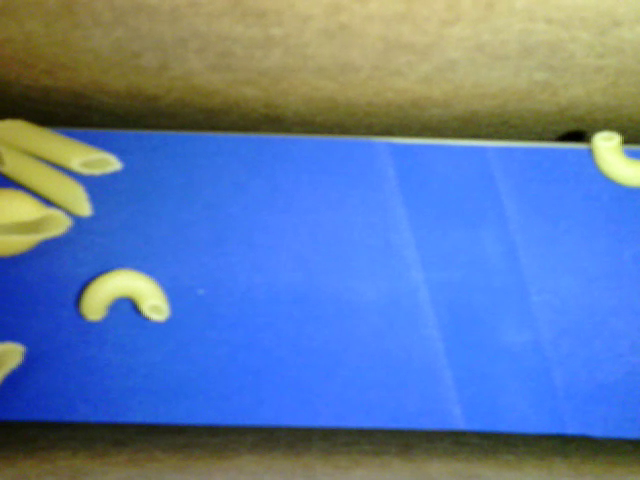elbow: (80, 268, 171, 322), (591, 130, 639, 187)
penne: (1, 119, 124, 179), (1, 142, 93, 217)
shell: (1, 186, 75, 256)
